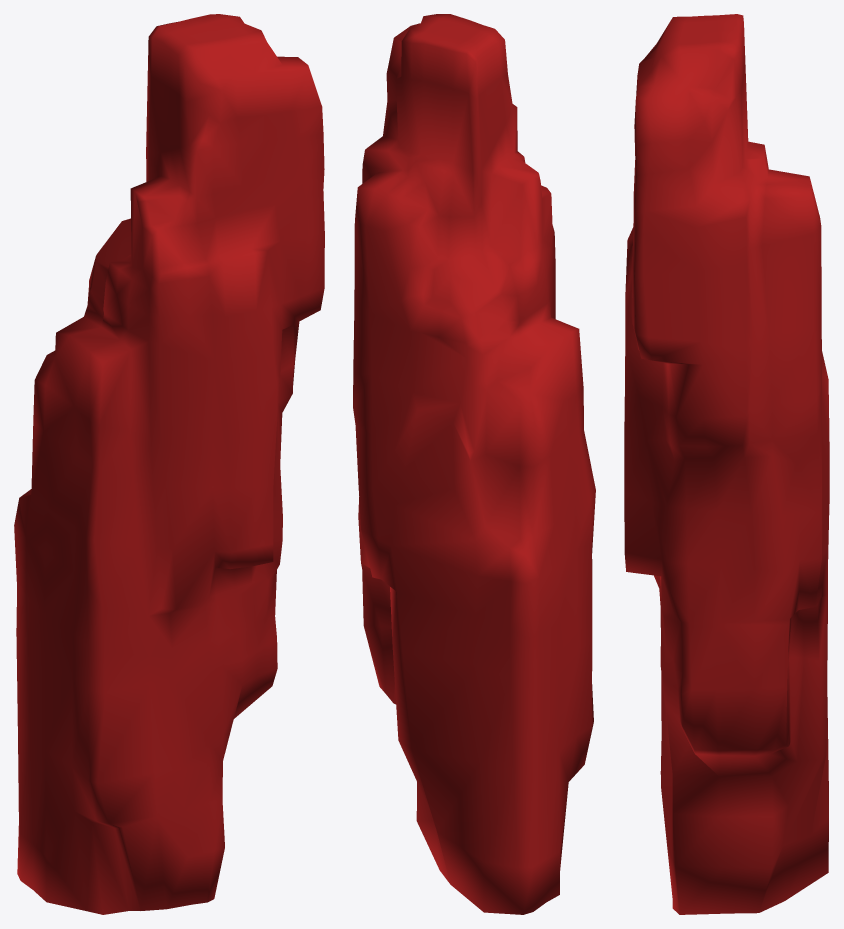
File: RockBigSize_3.FBX
3 views of the same model, side by side, from view 1: azimuth 30°, elevation 25°; view 2: azimuth 150°, elevation 25°; view 3: azimuth 270°, elevation 25° (orthographic). The views are drawn at different scales.
Parts seen in each view (by area): view 1: RockBigSize_3; view 2: RockBigSize_3; view 3: RockBigSize_3.
Part boxes in pixels (left/top/right/bottom): RockBigSize_3: left=14, top=14, right=324, bottom=914; RockBigSize_3: left=353, top=14, right=595, bottom=914; RockBigSize_3: left=624, top=14, right=829, bottom=914.
Size of the model in its own units: 321 by 1197 by 250.
